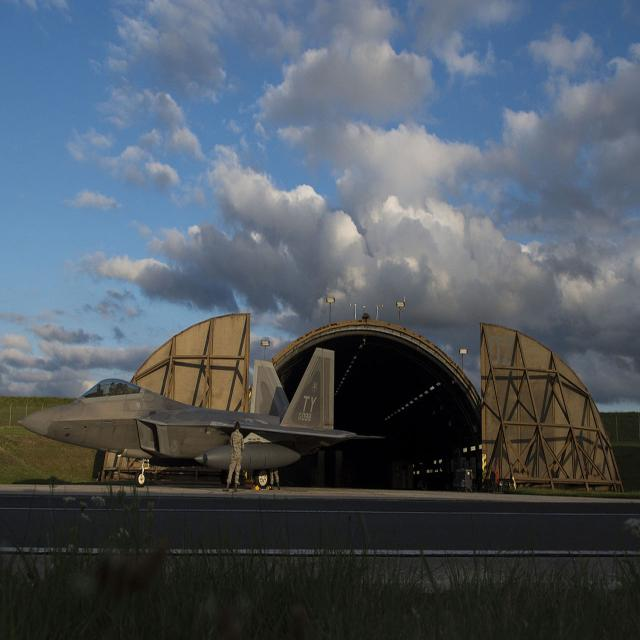MIL_Plane: (16, 346, 385, 489)
